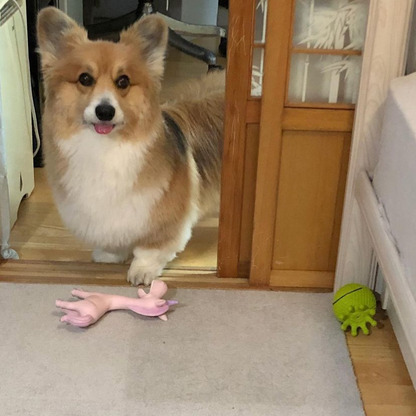Corgi: (27, 9, 232, 274)
